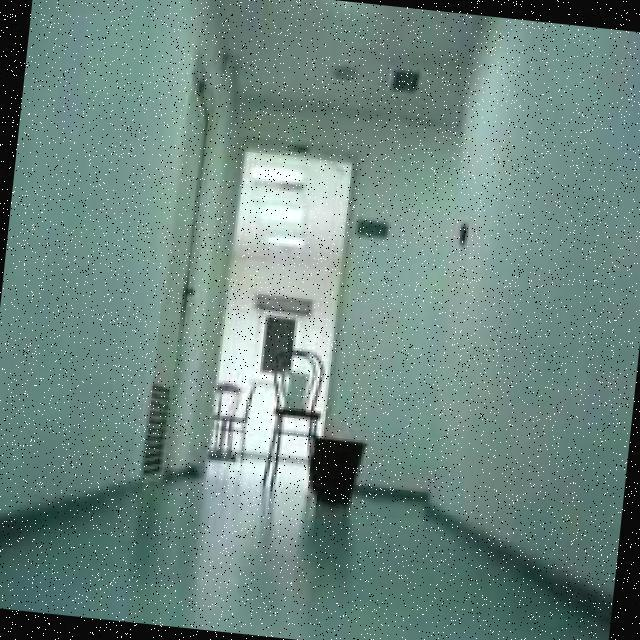Fire: (332, 438, 339, 440)
